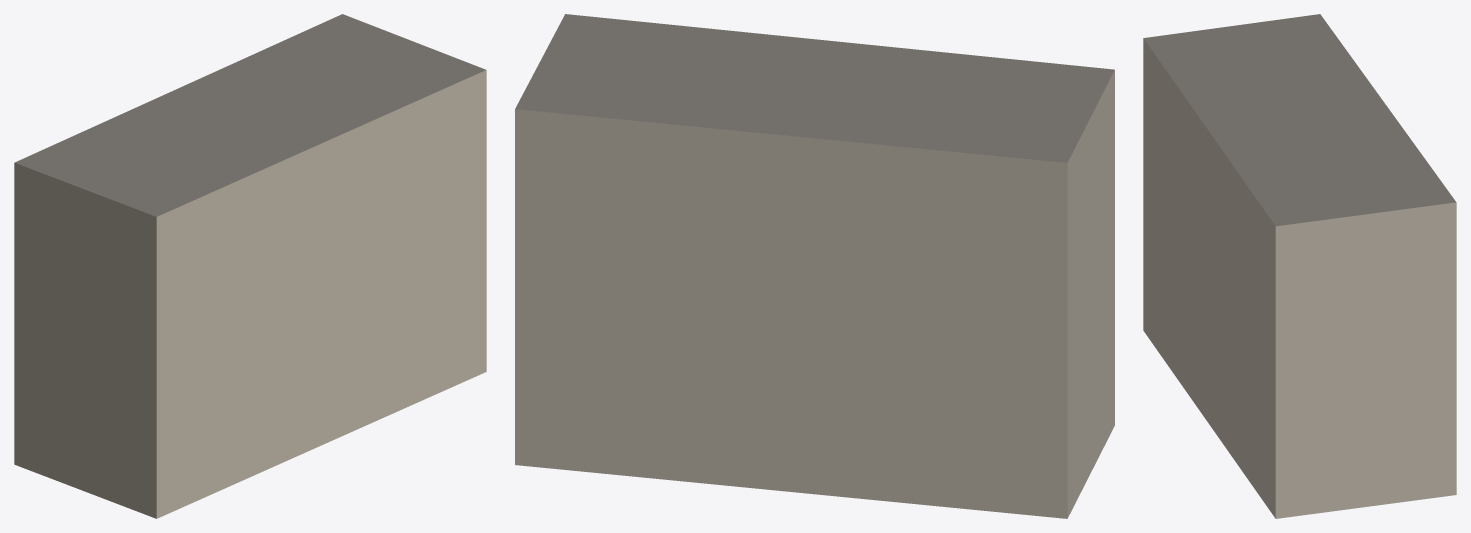
3 renders of one model, left to right at view 1: azimuth 30°, elevation 25°; view 2: azimuth 150°, elevation 25°; view 3: azimuth 270°, elevation 25°, orthographic. The views are drawn at different scales.
Parts seen in each view (by area): view 1: HP-w1159141674; view 2: HP-w1159141674; view 3: HP-w1159141674.
Part boxes in pixels (left/top/right/bottom): HP-w1159141674: left=14, top=14, right=486, bottom=518; HP-w1159141674: left=515, top=14, right=1114, bottom=518; HP-w1159141674: left=1143, top=14, right=1456, bottom=518.
Size of the model in its own units: 28.01 by 18 by 17.45.
